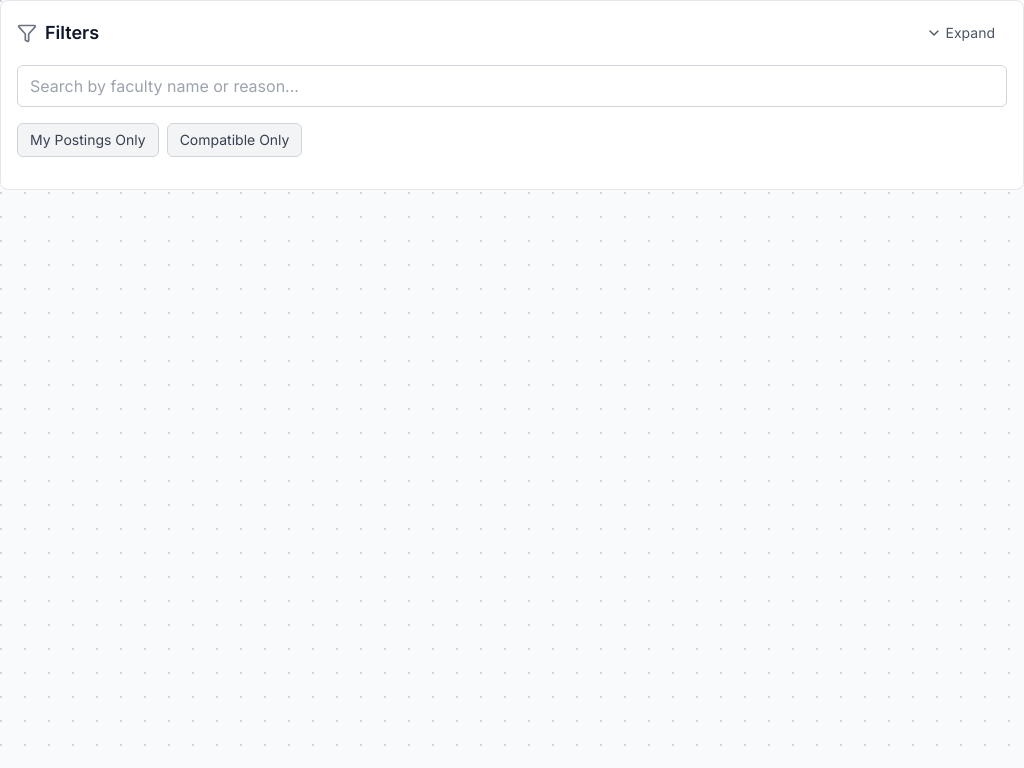
Test: SwapFilters › Expand/Collapse › should hide expanded filters when Collapse button is clicked
This screenshot has width=1024, height=768.
Click the button "Expand" at (960, 33), box [914,17,1007,49]
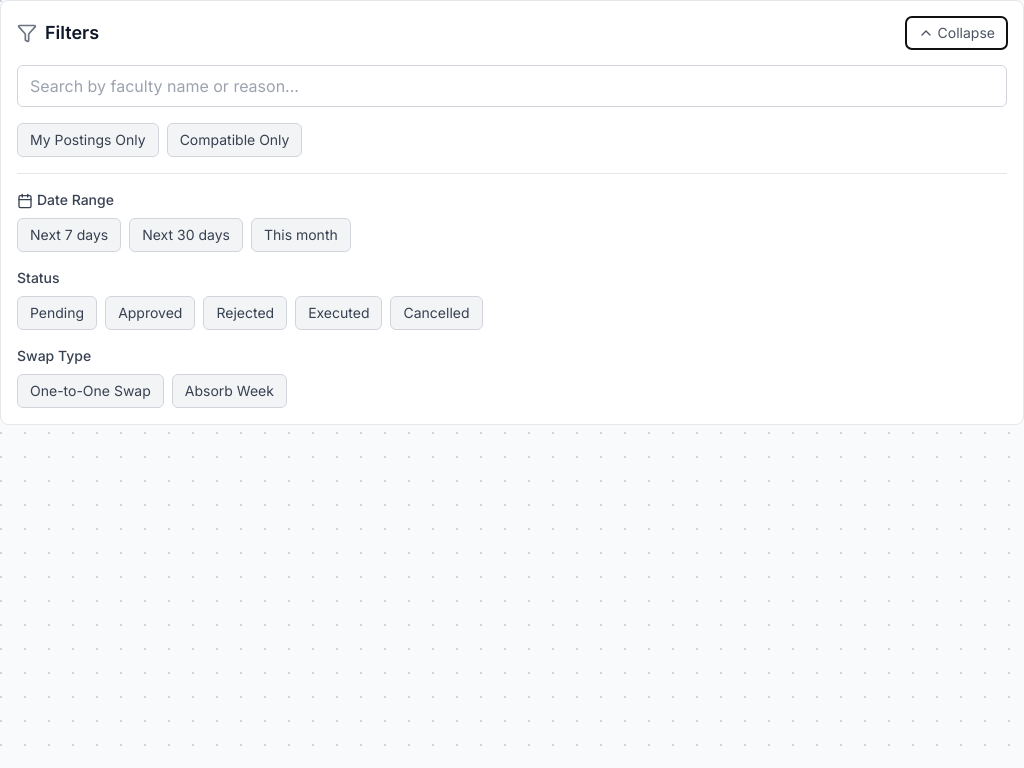
Click the button "Collapse" at (956, 33), box [906,17,1007,49]
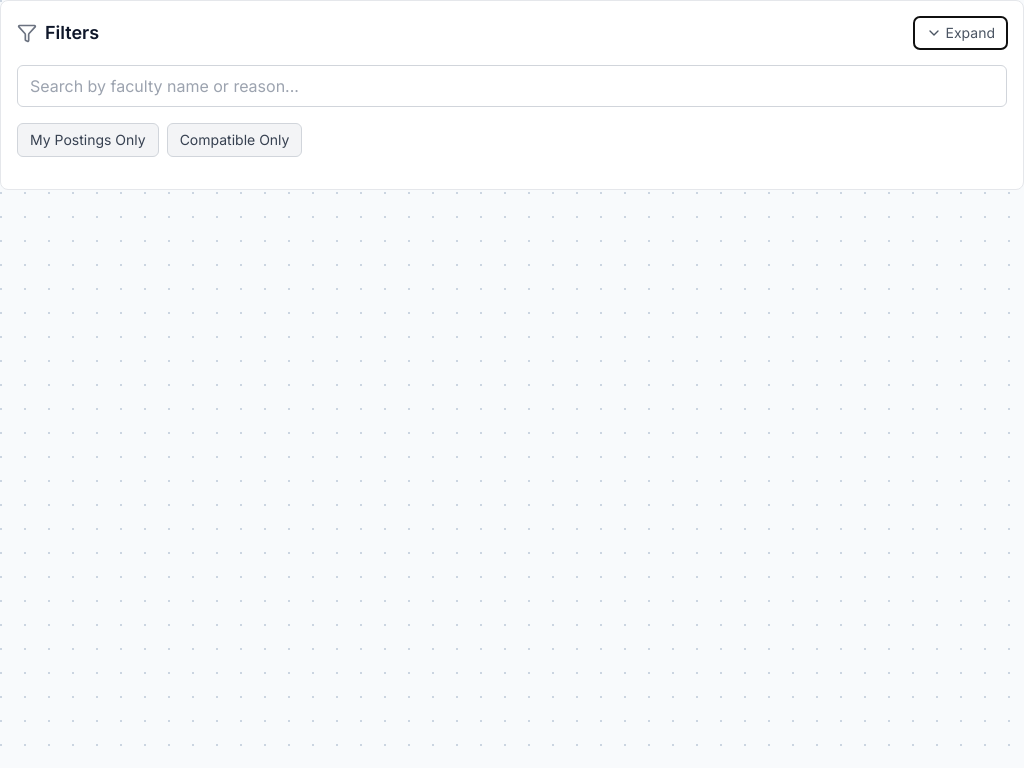
Check: the text "Date Range" is gone
Check: the text "Status" is gone
